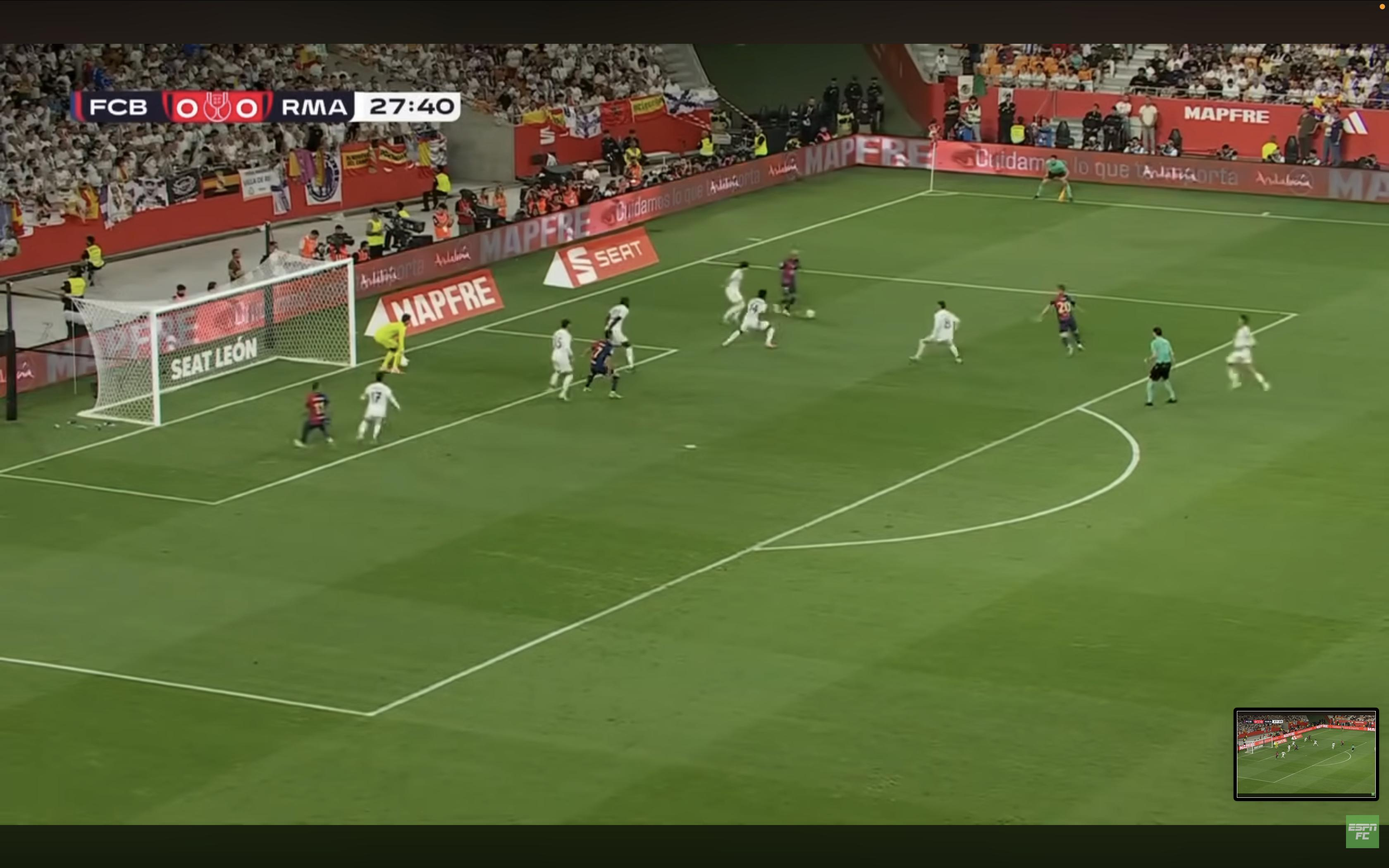ball: (804, 309, 816, 319)
goalkeeper: (373, 314, 411, 373)
player: (1226, 315, 1270, 391), (1038, 284, 1084, 355), (910, 301, 962, 363), (722, 289, 776, 348), (357, 372, 400, 444), (294, 382, 333, 448), (604, 297, 635, 371), (584, 338, 621, 398), (549, 318, 573, 399), (721, 261, 749, 324), (774, 250, 800, 316)
referee: (1145, 327, 1177, 406), (1034, 155, 1073, 202)
